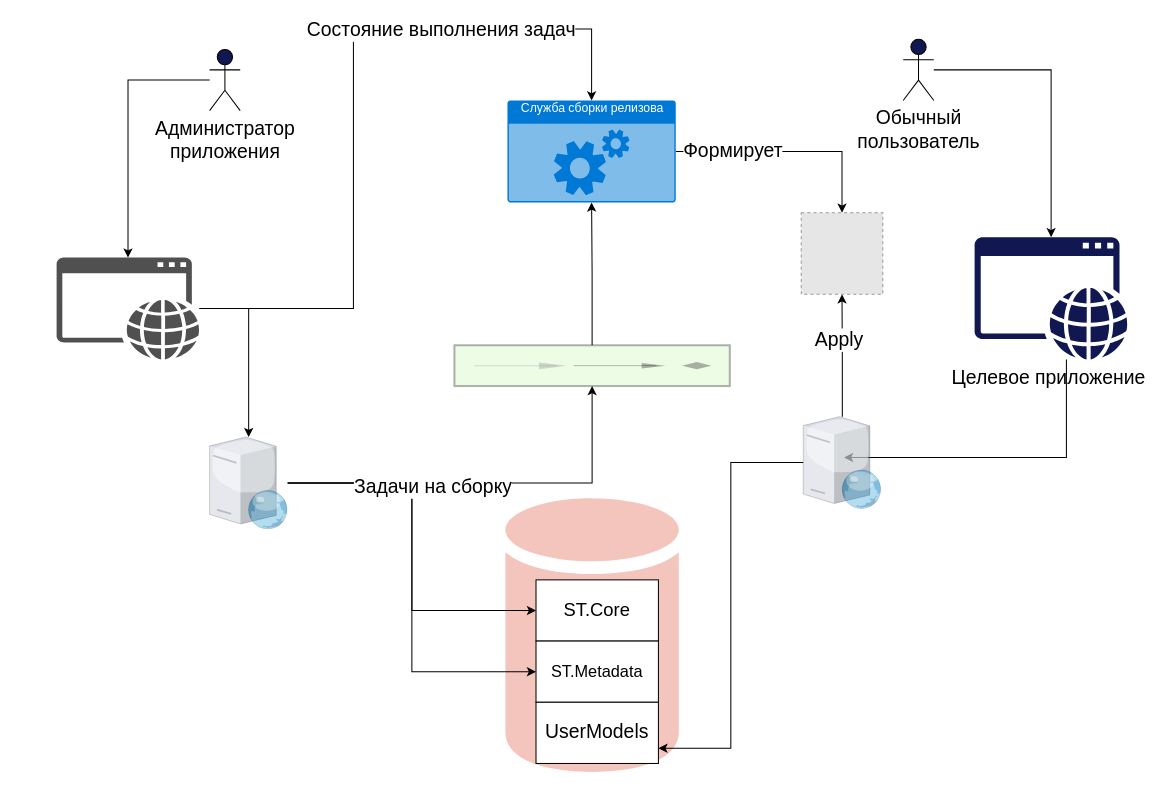
Image size: 1168x791. Some labels were removed from this diagram. Grey dashed boxes stand in for pictures. The centre of each missing label's shape, as x and y in pixels:
Backend целевого приложения: pixel 842 462
SmartTwin Настройка метаданных: pixel 248 482
Админка с модулем управления метаданных: pixel 127 308
